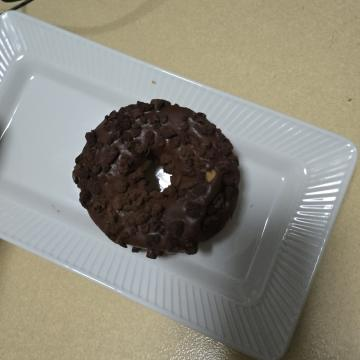doughnut: (88, 113, 271, 295)
